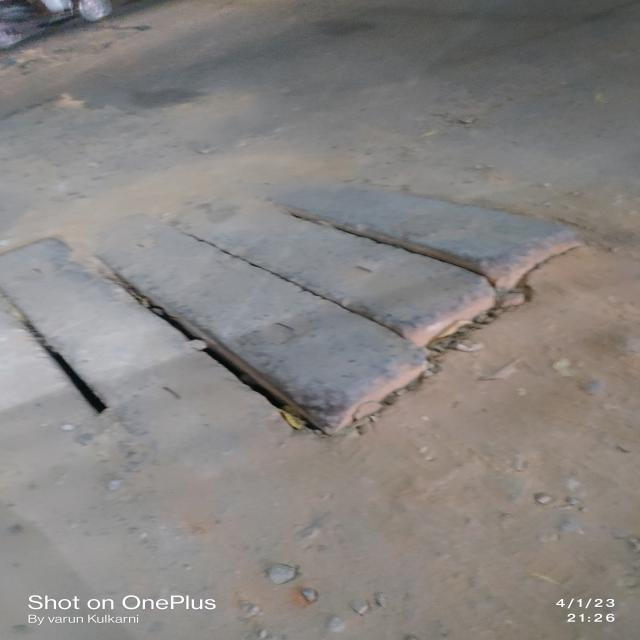potholes: (1, 198, 591, 436)
